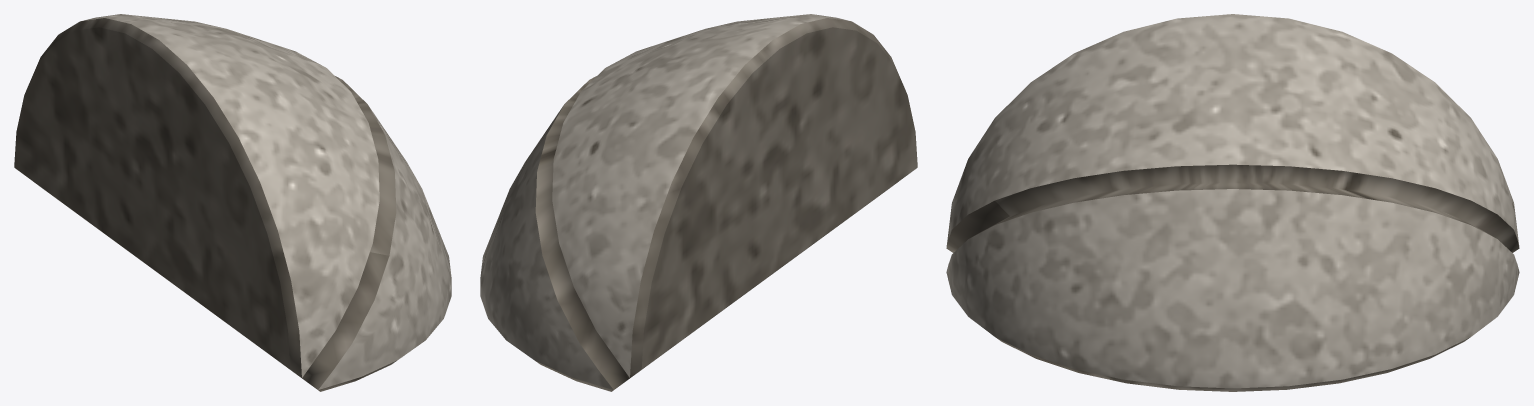
Rendered from GB_017_018_034_035_wall_top_rounded_corner.glb.
The picture shows the model from 3 angles, left to right: view 1: azimuth 30°, elevation 25°; view 2: azimuth 150°, elevation 25°; view 3: azimuth 270°, elevation 25°; orthographic projection.
Parts seen in each view (by area): view 1: GB_017_018_034_035_wall_top_rounded_corner; view 2: GB_017_018_034_035_wall_top_rounded_corner; view 3: GB_017_018_034_035_wall_top_rounded_corner.
Boxes of the visible parts, <box> form: GB_017_018_034_035_wall_top_rounded_corner: <box>14,14,451,391</box>; GB_017_018_034_035_wall_top_rounded_corner: <box>480,14,917,391</box>; GB_017_018_034_035_wall_top_rounded_corner: <box>946,14,1519,391</box>.
Bounding box in the file's own units: 0.3908 × 0.368 × 0.7425.
1 material, 1 textured.
